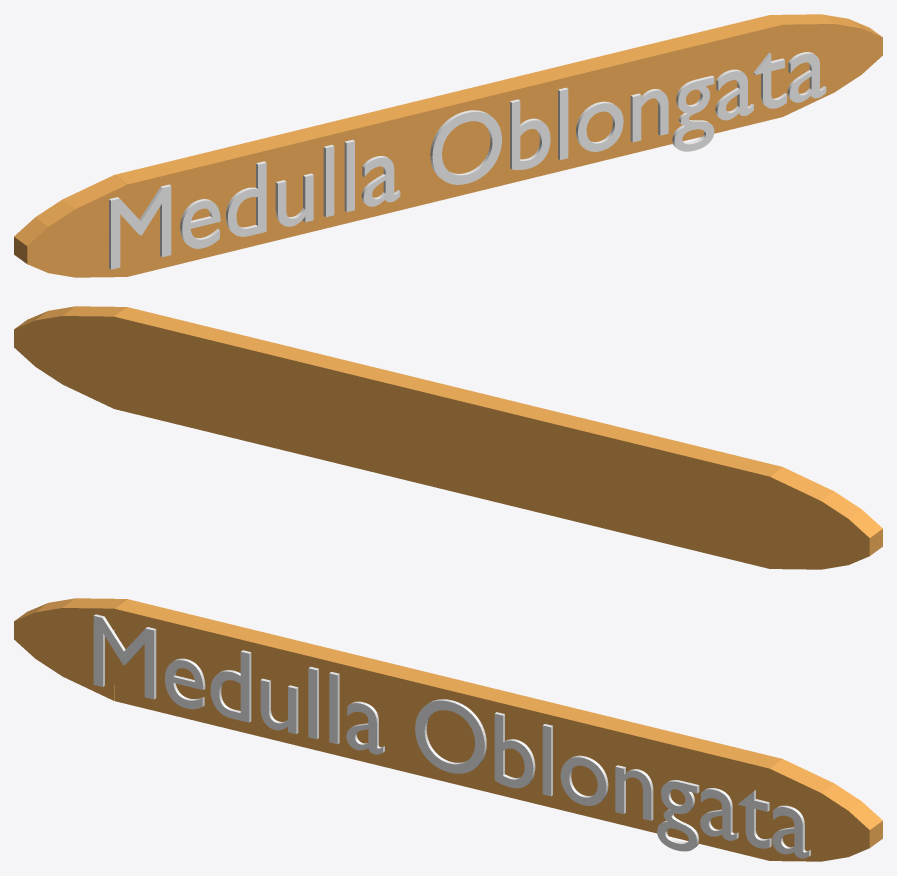
Rendered from txtMedullaOblangata.fbx.
3 views of the same model, one above another, from view 1: azimuth 30°, elevation 25°; view 2: azimuth 150°, elevation 25°; view 3: azimuth 330°, elevation 25° (orthographic).
Visible parts, largest first — view 1: TagContainer.095, Text.097; view 2: TagContainer.095; view 3: TagContainer.095, Text.097.
Boxes of the visible parts, x1,y1,x2,y2 form: TagContainer.095: (14, 14, 882, 277); Text.097: (109, 52, 826, 269); TagContainer.095: (14, 306, 882, 569); TagContainer.095: (14, 598, 882, 861); Text.097: (93, 614, 810, 858).
Bounding box in the file's own units: 400 × 45.8 × 12.37.
